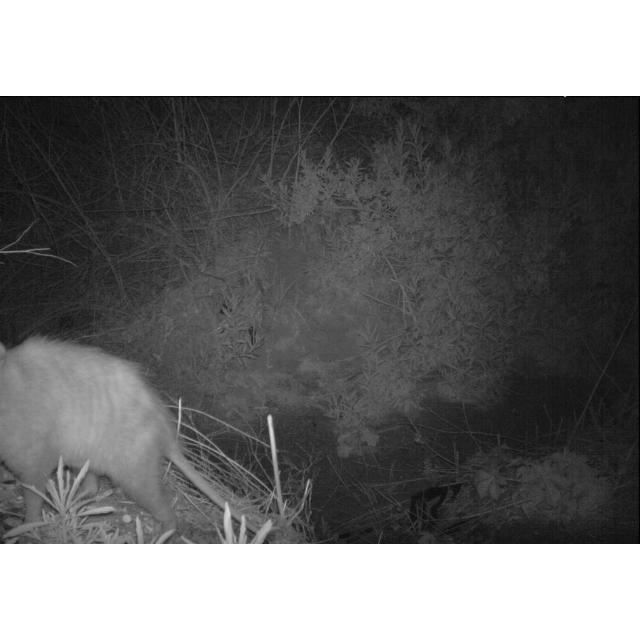animals: (0, 330, 268, 538)
